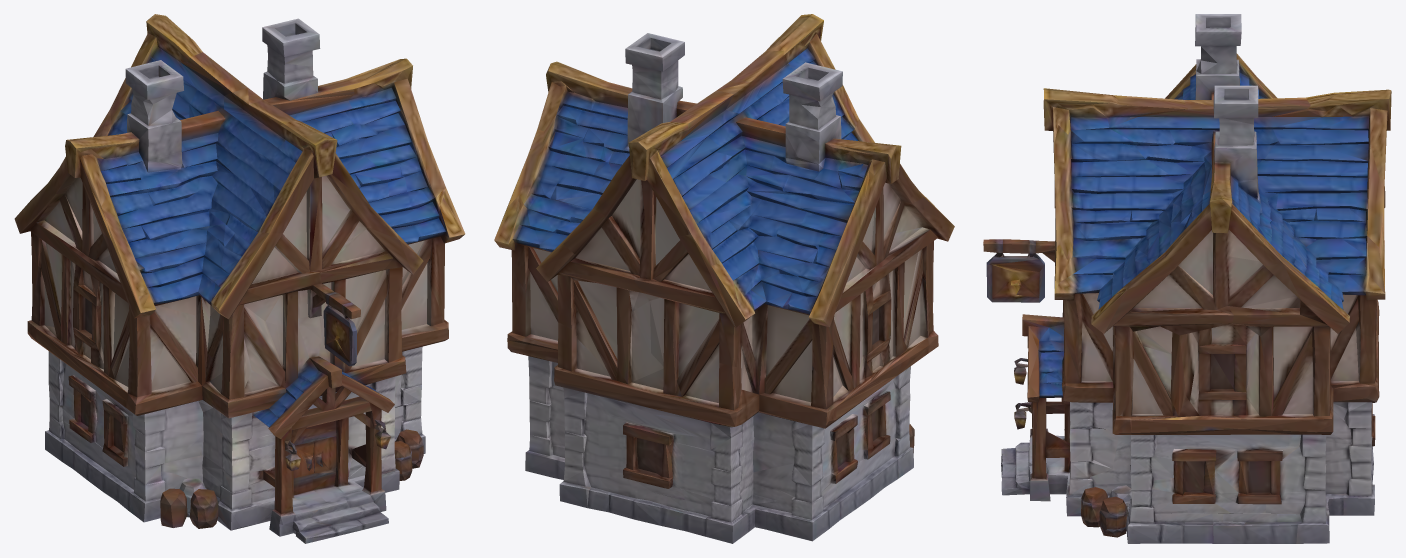
The model's file is oc_inn.glb.
The picture shows the model from 3 angles, left to right: view 1: azimuth 30°, elevation 25°; view 2: azimuth 150°, elevation 25°; view 3: azimuth 270°, elevation 25°; orthographic projection. The views are drawn at different scales.
Parts seen in each view (by area): view 1: W_inn_gilded_sheaf; view 2: W_inn_gilded_sheaf; view 3: W_inn_gilded_sheaf.
Boxes of the visible parts, x1,y1,x2,y2 form: W_inn_gilded_sheaf: (14,14,465,543); W_inn_gilded_sheaf: (494,14,954,543); W_inn_gilded_sheaf: (983,14,1391,543).
Size of the model in its own units: 13.11 by 14.99 by 13.51.
1 material, 1 textured.
